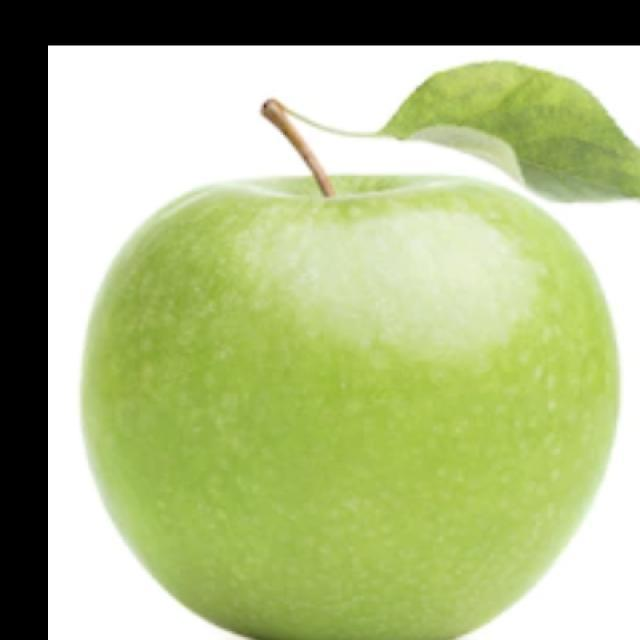Fresh Apple: (80, 168, 617, 640)
